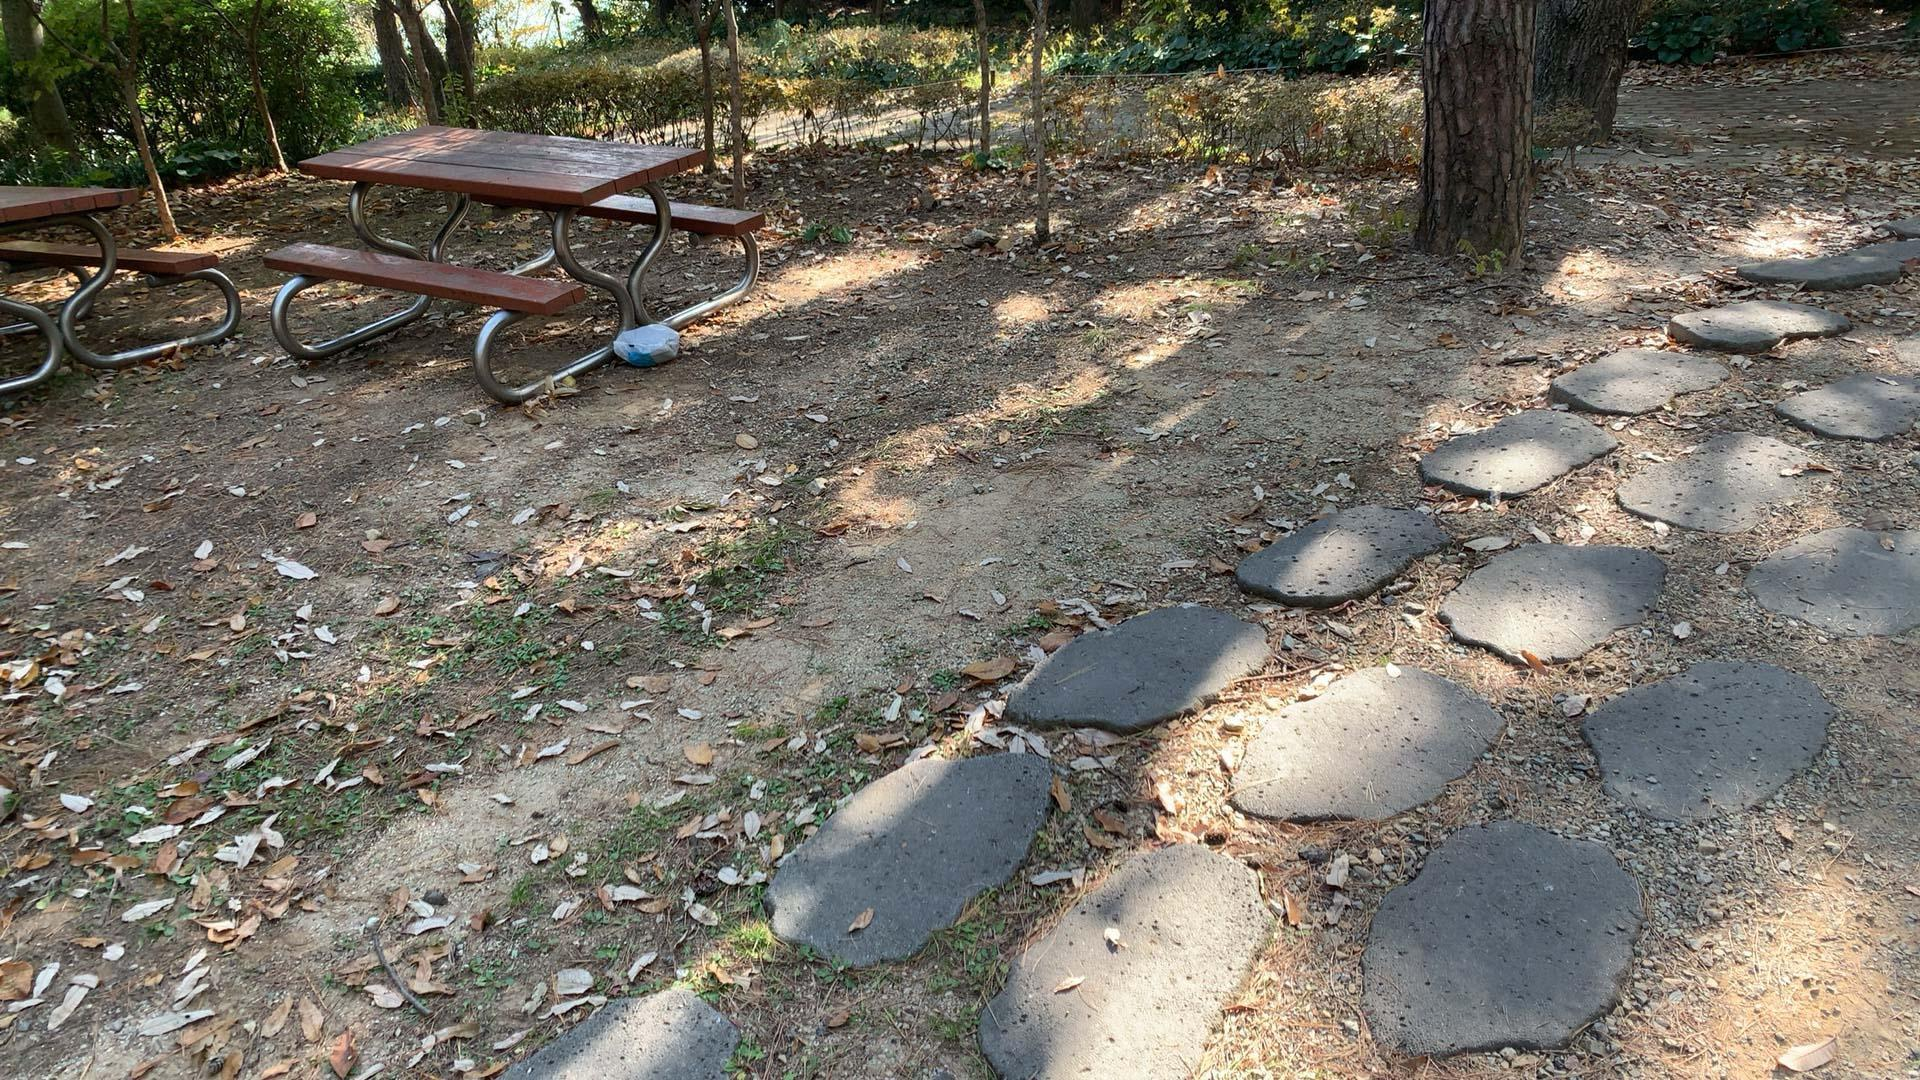white_bag: (603, 316, 684, 368)
